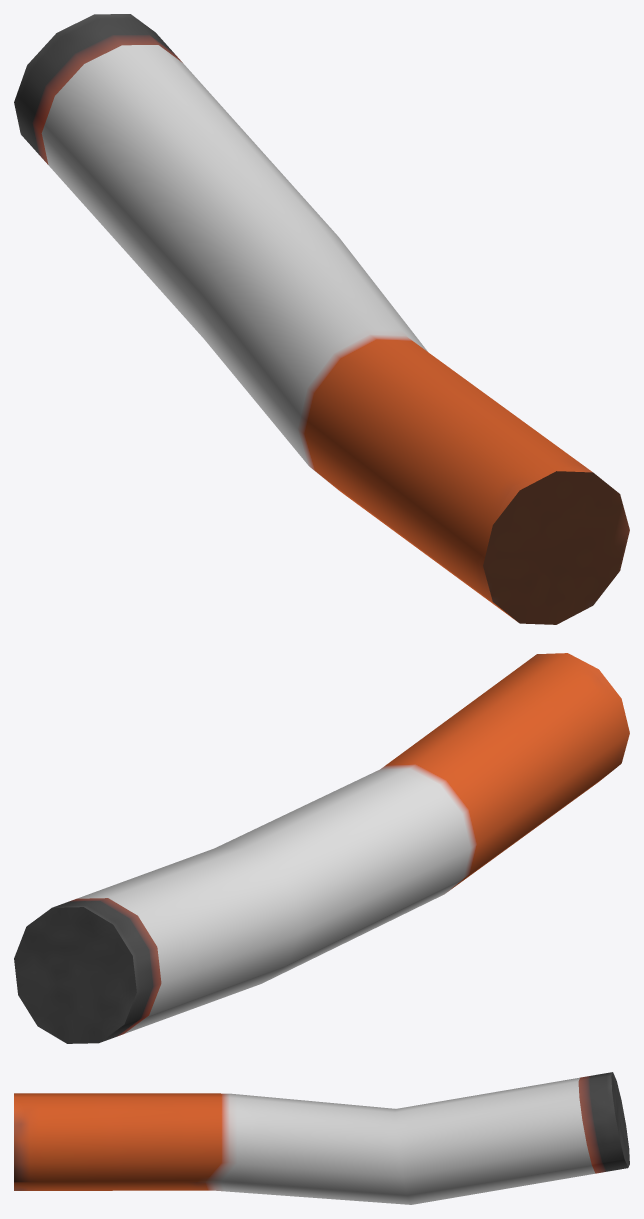
File: Cigarette_4.fbx
3 views of the same model, one above another, from view 1: azimuth 30°, elevation 25°; view 2: azimuth 150°, elevation 25°; view 3: azimuth 270°, elevation 25° (orthographic). The views are drawn at different scales.
Visible parts, largest first — view 1: Cigarette_4; view 2: Cigarette_4; view 3: Cigarette_4.
Part boxes in pixels (box(x1,y1,x2,y2)): Cigarette_4: box(14, 14, 629, 624); Cigarette_4: box(14, 653, 629, 1043); Cigarette_4: box(14, 1072, 629, 1204).
Bounding box in the file's own units: 0.0112 × 0.0115 × 0.0509.
